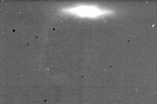Halpha: (29, 2, 73, 92), (99, 15, 118, 31)
